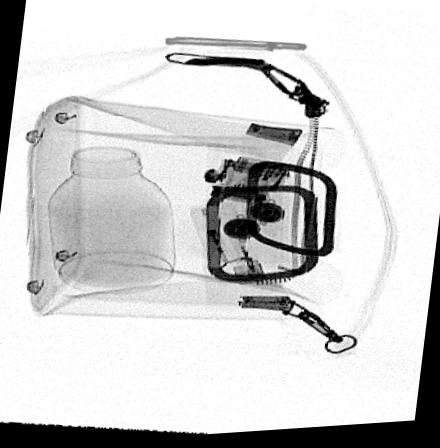Lighter: (189, 206, 265, 289)
